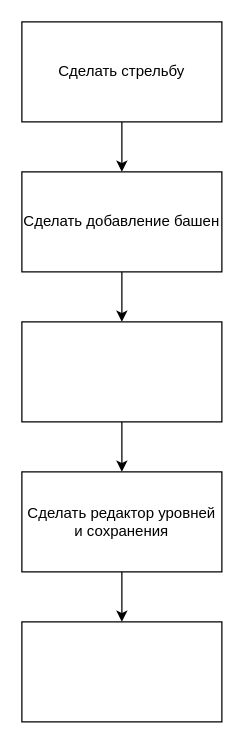
Image size: 244x744. Some labels were removed from this diagram. The centre of each missing label's shape, as x and y in pixels:
Сделать красиво: point (121, 671)
Сделать улучшения башен: point (121, 371)
